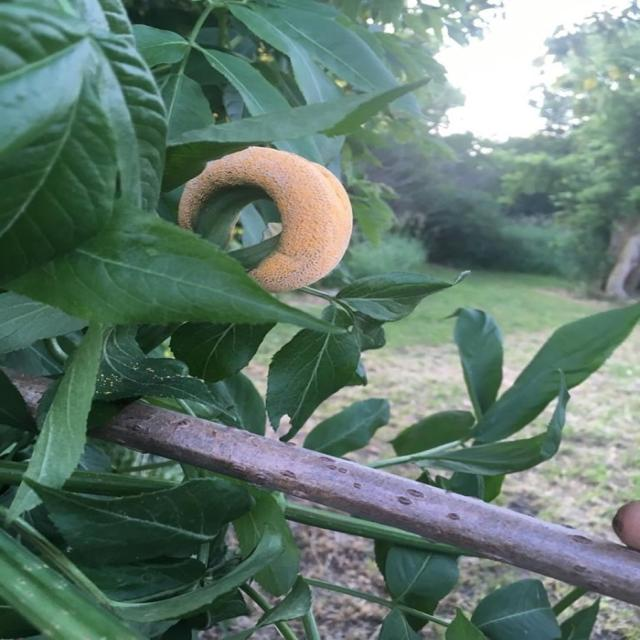Elderberry_rust: (134, 115, 392, 299)
